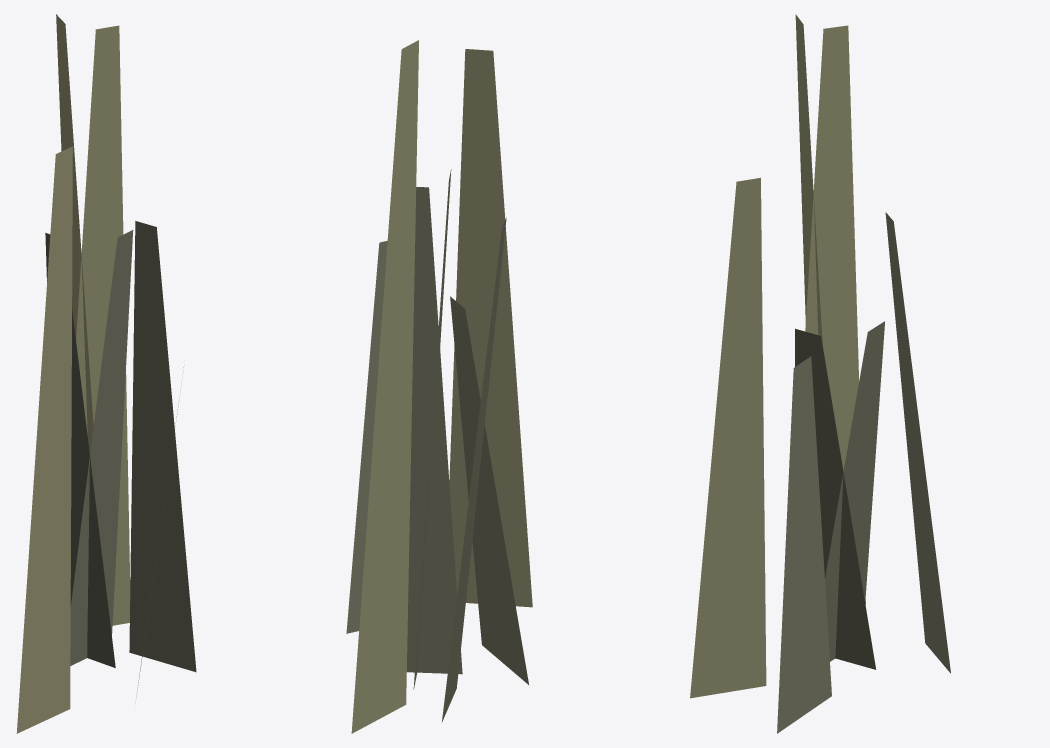
The model's file is nong.su@subadult__winter.glb.
3 views of the same model, side by side, from view 1: azimuth 30°, elevation 25°; view 2: azimuth 150°, elevation 25°; view 3: azimuth 270°, elevation 25° (orthographic). The views are drawn at different scales.
Parts seen in each view (by area): view 1: nong.su@subadult__winter; view 2: nong.su@subadult__winter; view 3: nong.su@subadult__winter.
Boxes of the visible parts, x1,y1,x2,y2 form: nong.su@subadult__winter: (16, 14, 196, 733); nong.su@subadult__winter: (346, 40, 532, 733); nong.su@subadult__winter: (690, 14, 950, 733).
Size of the model in its own units: 0.2597 by 0.5438 by 0.27.
